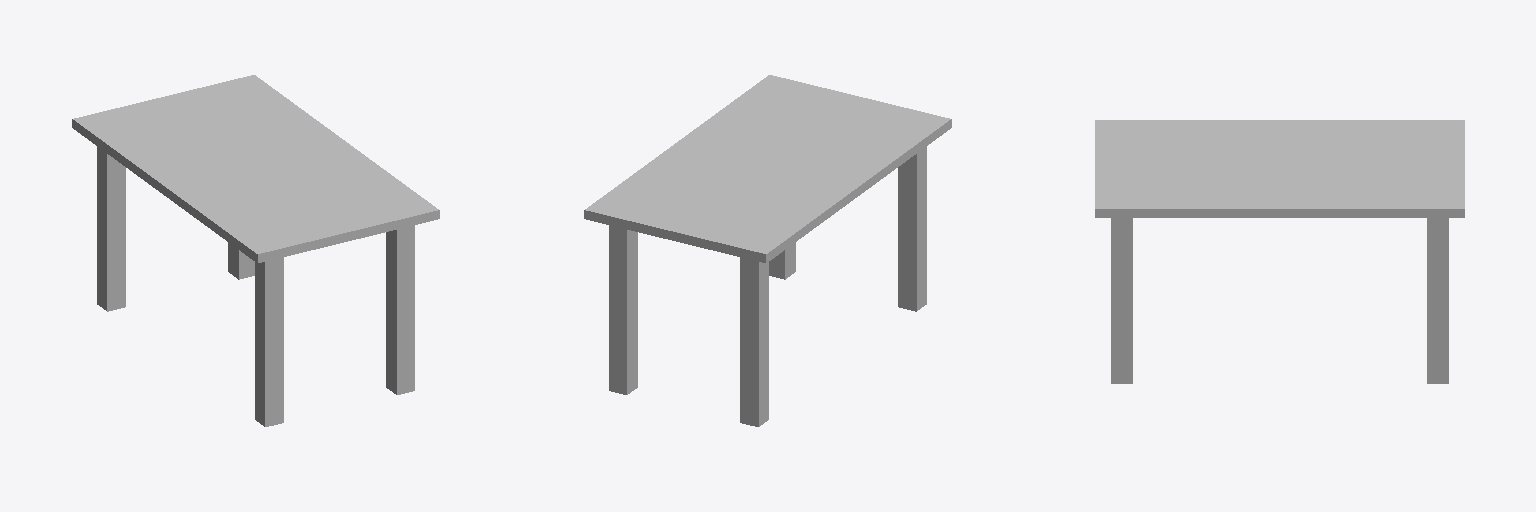
File: table.obj
The picture shows the model from 3 angles: view 1: azimuth 30°, elevation 25°; view 2: azimuth 150°, elevation 25°; view 3: azimuth 270°, elevation 25°; orthographic projection.
Visible parts, largest first — view 1: Cube.001; view 2: Cube.001; view 3: Cube.001.
Part boxes in pixels (left/top/right/bottom): Cube.001: left=72, top=75, right=439, bottom=426; Cube.001: left=584, top=75, right=951, bottom=426; Cube.001: left=1095, top=120, right=1464, bottom=383.
Size of the model in its own units: 33.24 by 31.94 by 58.54.